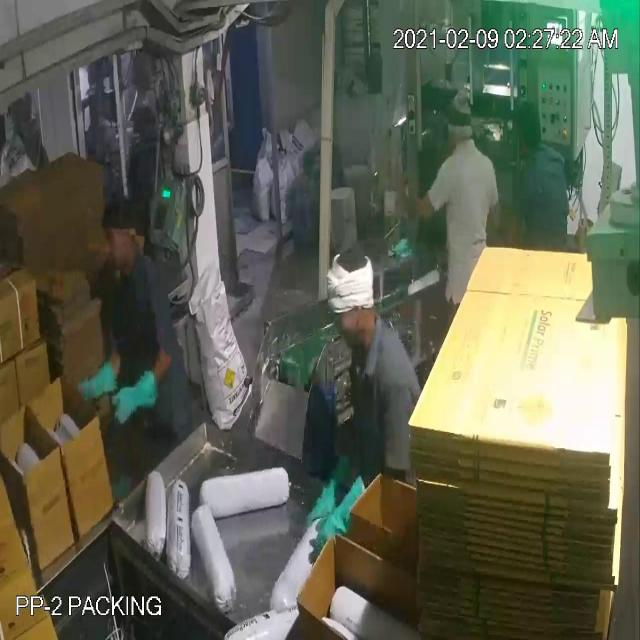gloves: (313, 473, 367, 563), (304, 449, 350, 527), (111, 367, 161, 431), (75, 343, 119, 410)
